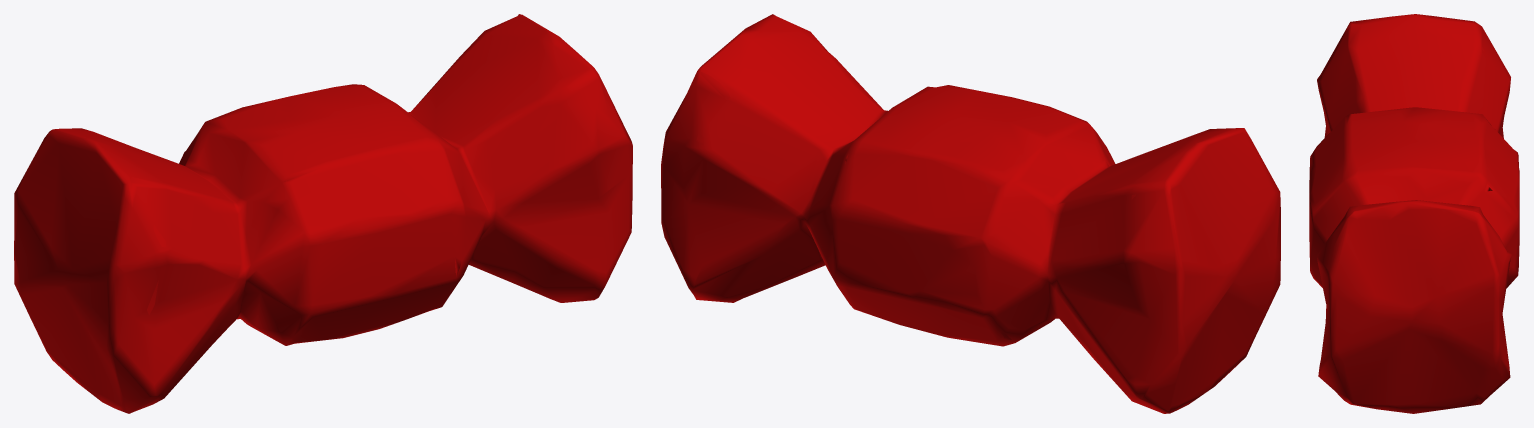
Rendered from gen3d-wrapped-candy-lod0.glb.
3 renders of one model, left to right at view 1: azimuth 30°, elevation 25°; view 2: azimuth 150°, elevation 25°; view 3: azimuth 270°, elevation 25°, orthographic. The views are drawn at different scales.
Visible parts, largest first — view 1: part_0; view 2: part_0; view 3: part_0.
Boxes of the visible parts, <box> form: part_0: <box>14,14,632,413</box>; part_0: <box>661,14,1280,413</box>; part_0: <box>1309,14,1519,413</box>.
Bounding box in the file's own units: 2.13 × 0.9979 × 0.8945.
